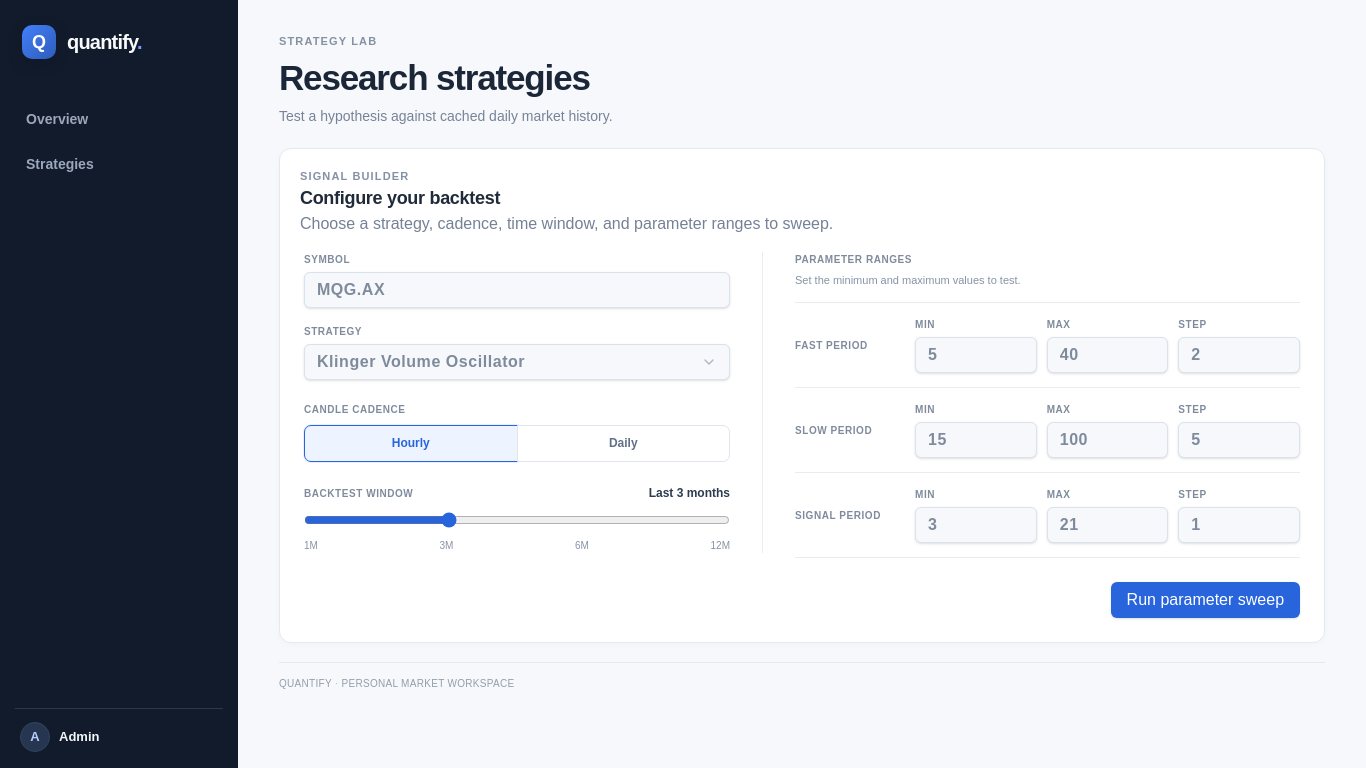
ResearchPage › shows an API error when the backtest cannot run
Click the button "Run parameter sweep" at (1205, 600), box [1111,582,1300,618]
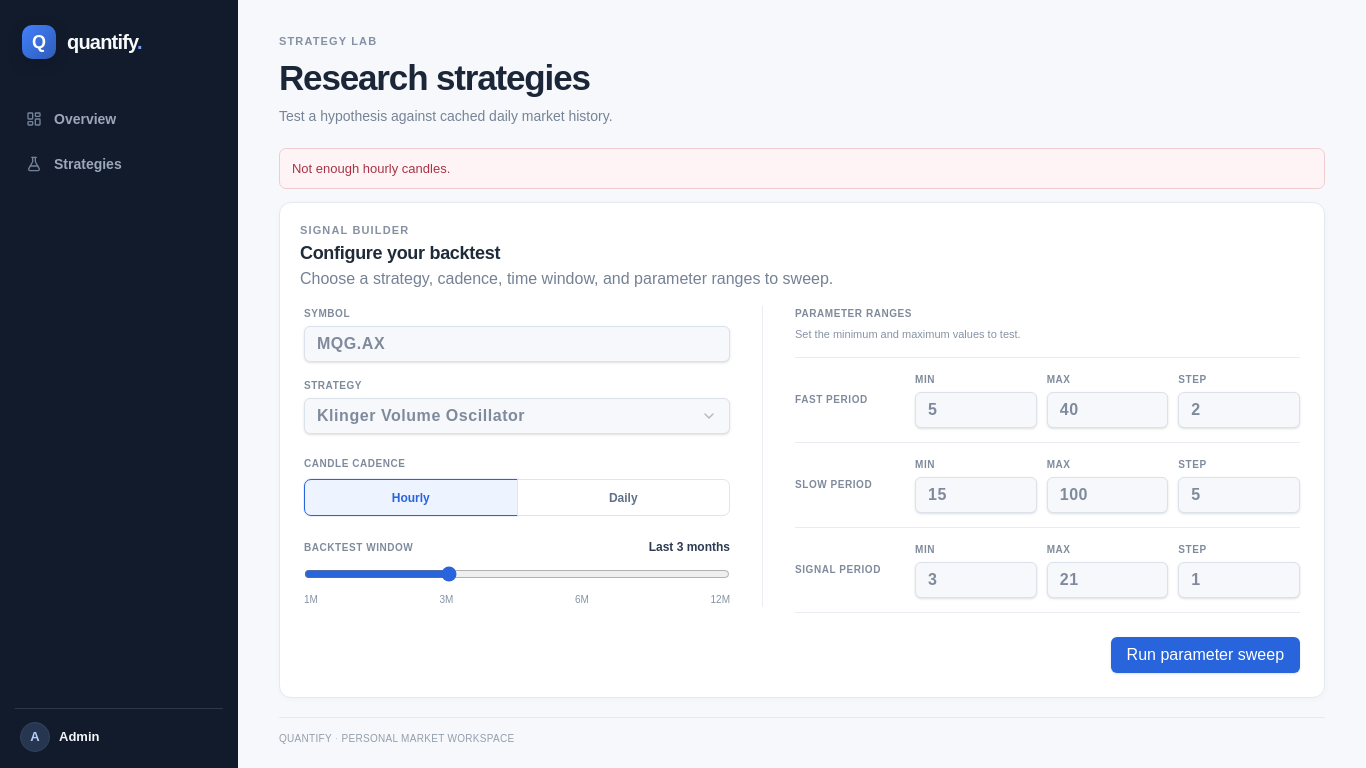
Expected: the message reads "Not enough hourly candles.", [292,160,450,176]
